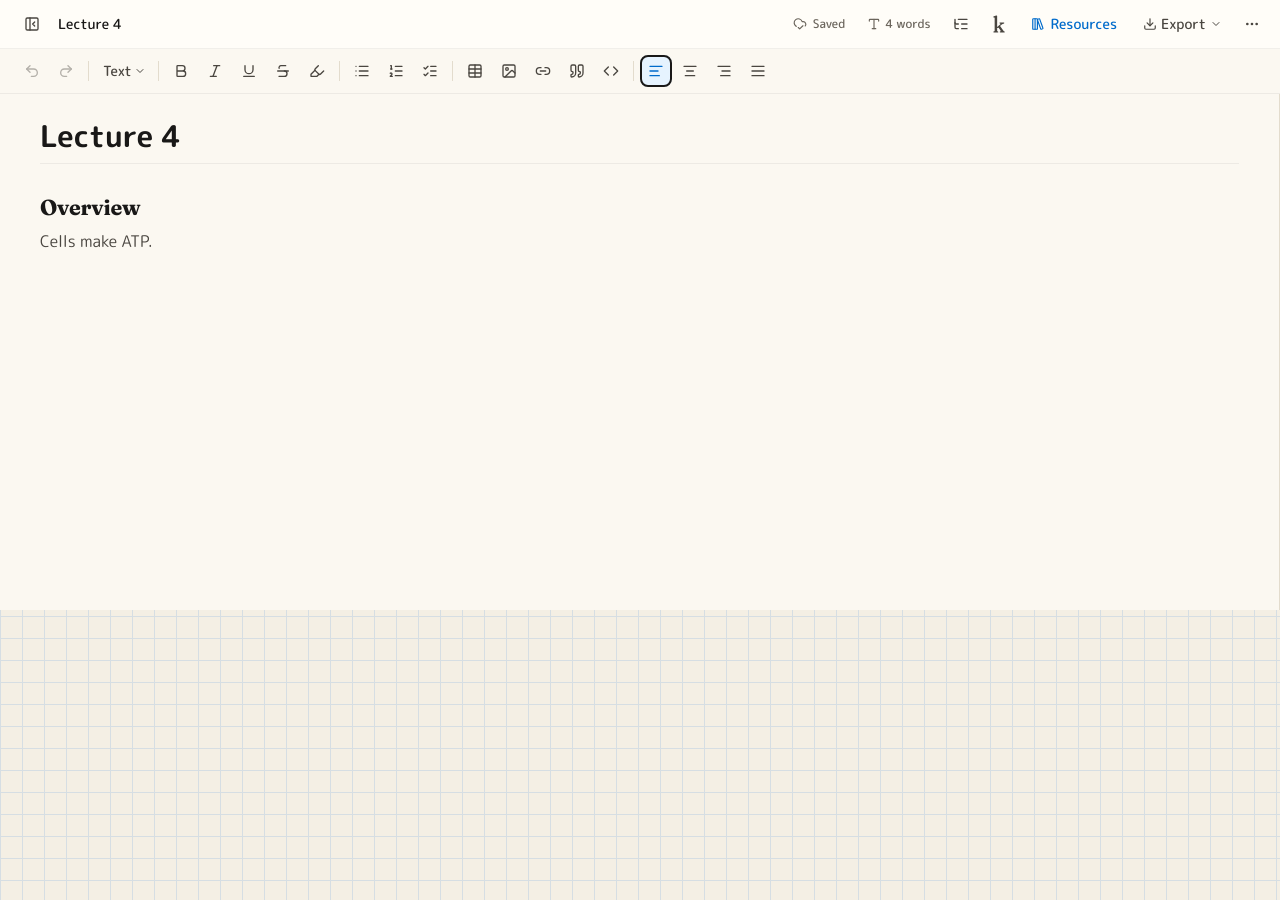
Scenario: NoteEditor toolbar › lists the note's headings in the outline
What coordinates should you click on to do the following:
click the button named "Outline"
I would click on:
 (961, 24)
Its box is [945,8,977,40].
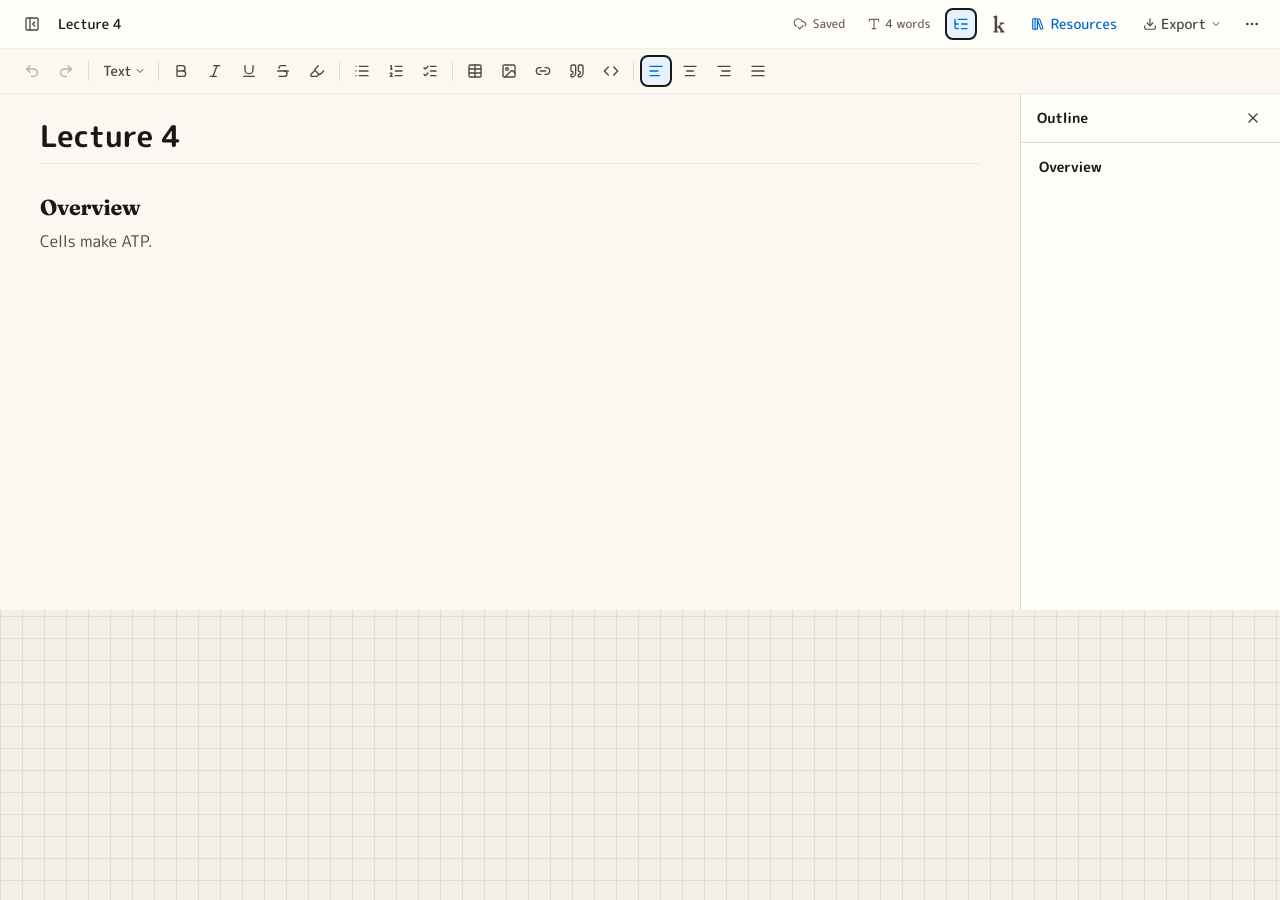
Result: the navigation bar reads "Overview" at [1029,151,1273,183]
